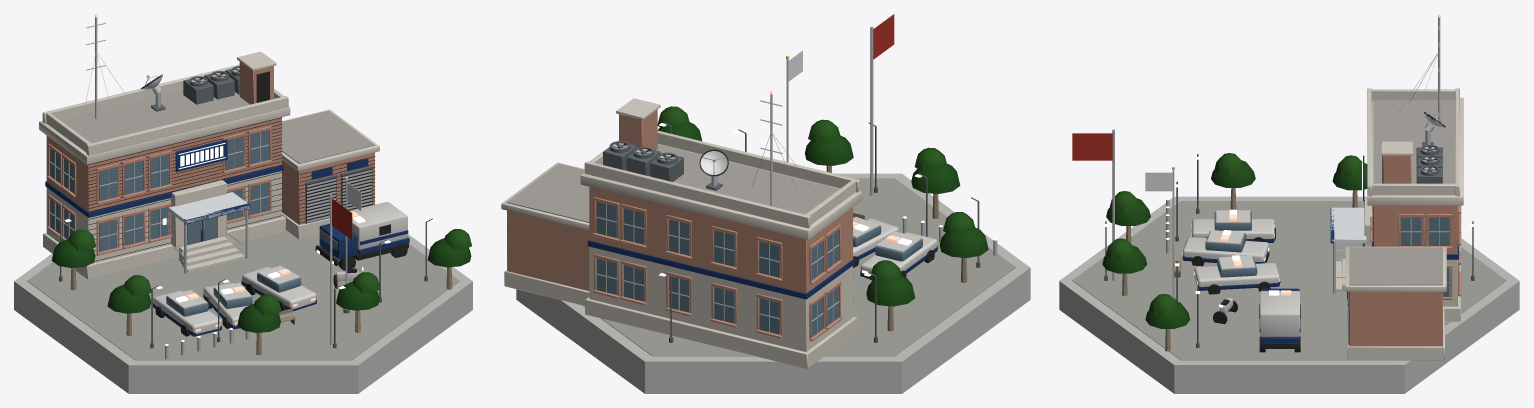
File: policeStation_us.glb
3 views of the same model, side by side, from view 1: azimuth 30°, elevation 25°; view 2: azimuth 150°, elevation 25°; view 3: azimuth 270°, elevation 25° (orthographic). The views are drawn at different scales.
Visible parts, largest first — view 1: pavers, wall_concrete, stone, brick, paint, glass, gravel, leaf, dark, metal, steel_dark, cladding (+2 smaller); view 2: stone, wall_concrete, brick, pavers, glass, leaf, gravel, paint, steel_dark, metal, wood; view 3: pavers, wall_concrete, stone, brick, paint, gravel, leaf, glass, metal, steel_dark, dark, cladding (+2 smaller).
Boxes of the visible parts, x1,y1,x2,y2 form: pavers: (27, 230, 459, 360); wall_concrete: (14, 132, 472, 393); stone: (39, 51, 379, 278); brick: (46, 62, 374, 255); paint: (45, 75, 409, 336); glass: (50, 130, 337, 316); gravel: (59, 89, 375, 163); leaf: (51, 229, 471, 332); dark: (88, 70, 408, 336); metal: (79, 17, 371, 359); steel_dark: (59, 66, 432, 348); cladding: (168, 192, 249, 223); stone: (501, 98, 861, 368); wall_concrete: (516, 173, 1030, 393); brick: (507, 109, 852, 341); pavers: (583, 178, 1015, 356); glass: (597, 201, 922, 336); leaf: (657, 106, 988, 306); gravel: (507, 144, 839, 222); paint: (587, 14, 937, 299); steel_dark: (603, 122, 980, 342); metal: (612, 26, 997, 255); wood: (826, 165, 967, 331); pavers: (1072, 201, 1506, 360); wall_concrete: (1059, 196, 1519, 393); stone: (1336, 88, 1463, 360); brick: (1349, 155, 1461, 346); paint: (1072, 113, 1458, 342); gravel: (1349, 100, 1455, 285); leaf: (1102, 153, 1367, 328); glass: (1205, 211, 1449, 296); metal: (1112, 17, 1442, 343); steel_dark: (1104, 142, 1474, 348); dark: (1191, 112, 1445, 352); cladding: (1331, 207, 1366, 243).
Bounding box in the file's own units: 21.3 × 15.3 × 24.6.
